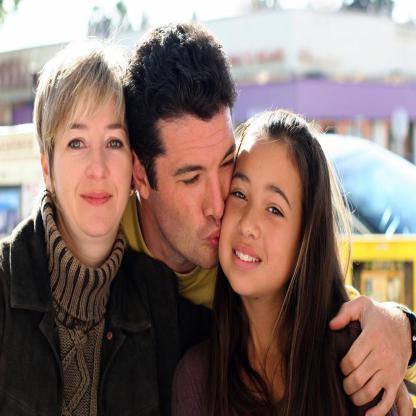face: (222, 129, 303, 296), (53, 84, 133, 235), (163, 109, 236, 268)
